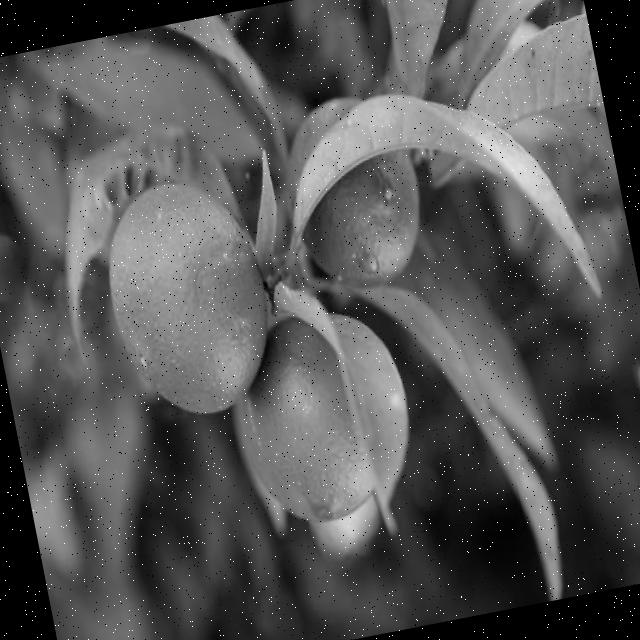Unripe: (92, 168, 286, 430)
